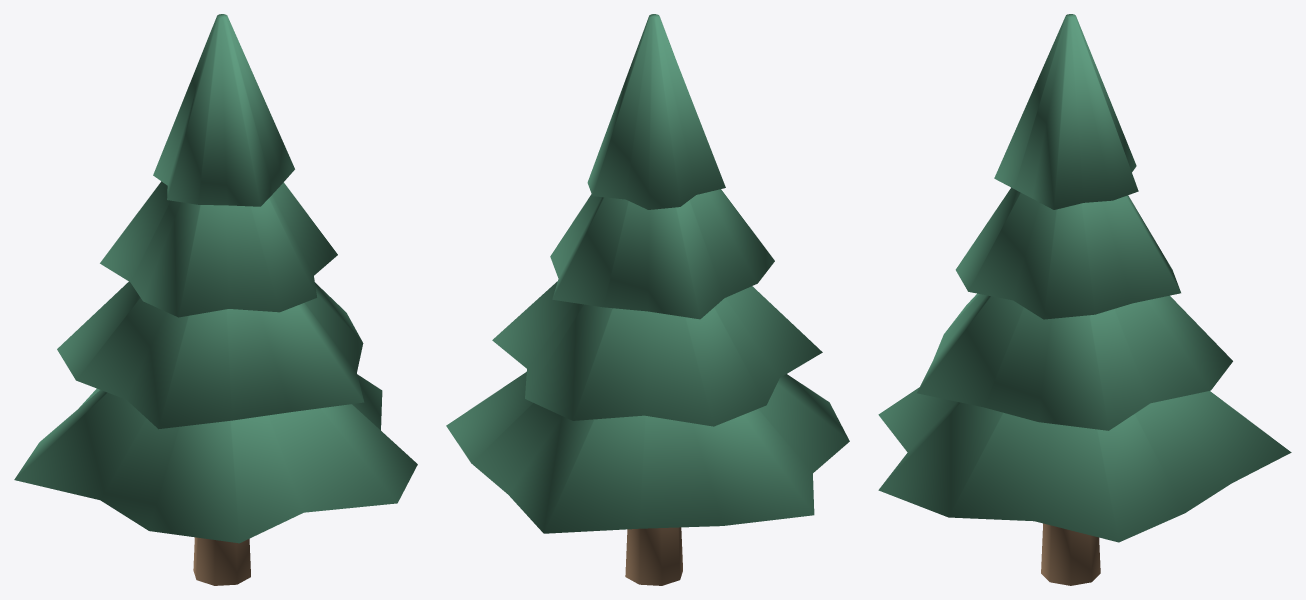
Rendered from Tree_Pine_1.fbx.
The picture shows the model from 3 angles, left to right: view 1: azimuth 30°, elevation 25°; view 2: azimuth 150°, elevation 25°; view 3: azimuth 270°, elevation 25°; orthographic projection.
Parts seen in each view (by area): view 1: Tree_Pine_1; view 2: Tree_Pine_1; view 3: Tree_Pine_1.
Boxes of the visible parts, bbox=[...] form: Tree_Pine_1: bbox=[14, 14, 417, 585]; Tree_Pine_1: bbox=[446, 14, 849, 585]; Tree_Pine_1: bbox=[878, 14, 1291, 585].
Size of the model in its own units: 3.98 by 5.76 by 3.87.
